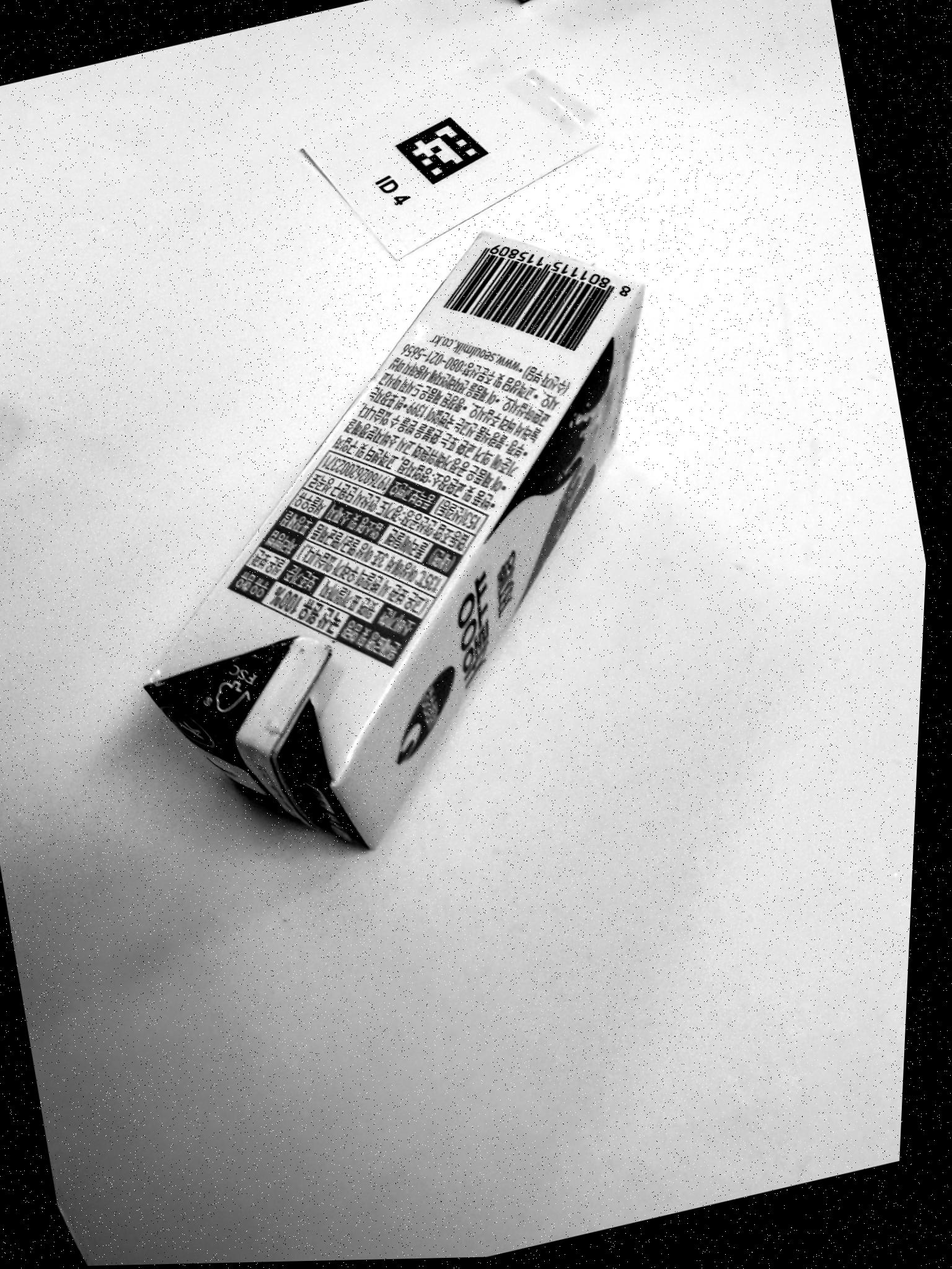milk_blue: (148, 234, 643, 847)
